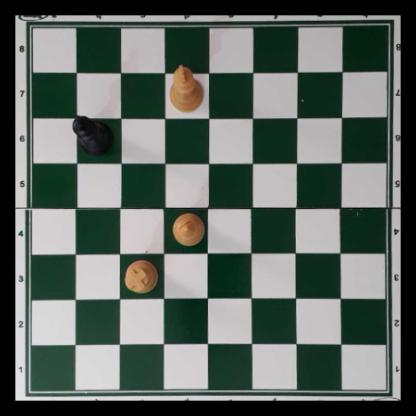black-king: (72, 114, 114, 157)
white-bishop: (172, 210, 205, 249)
white-king: (168, 64, 204, 114)
white-rook: (124, 260, 159, 293)
